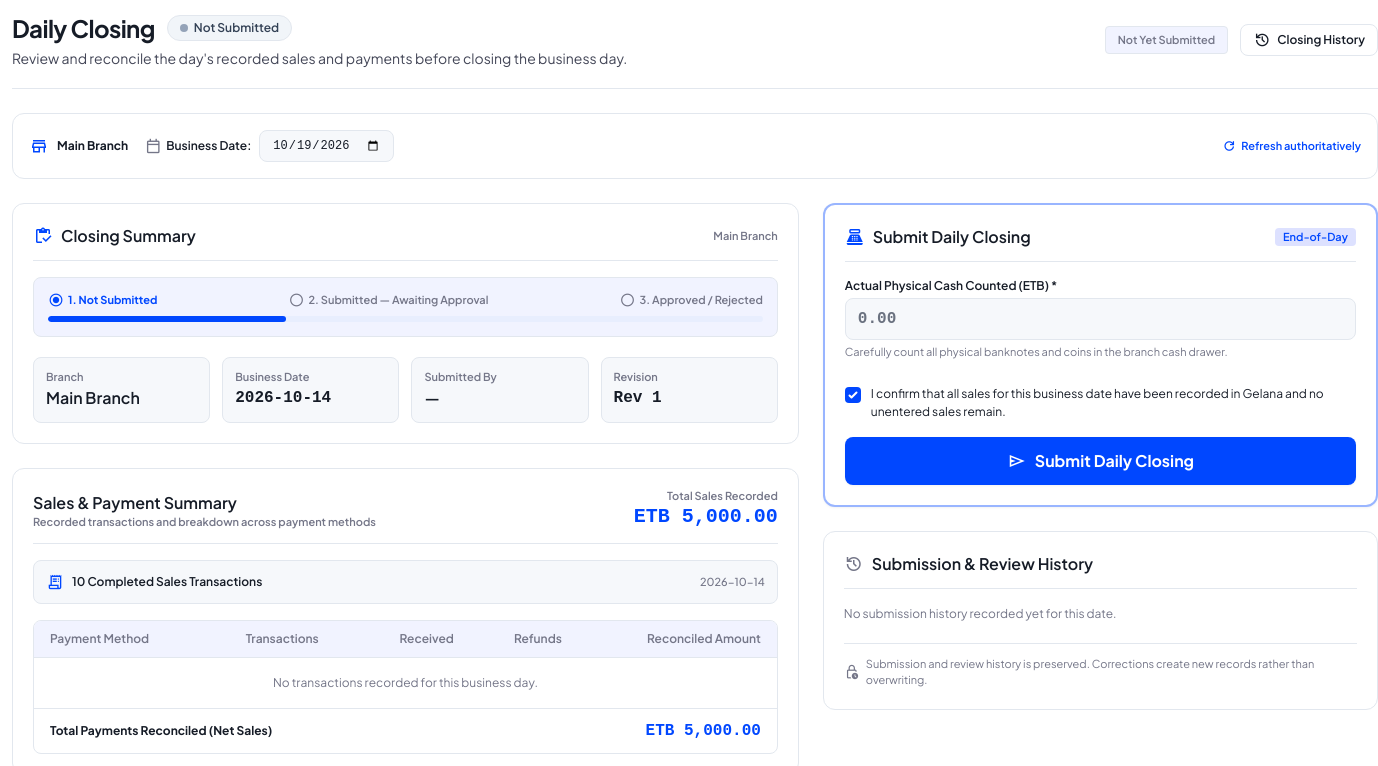
Daily Closing Frontend Components (Slices 9.1 – 9.4) › CurrentClosingPage › displays live variance calculation and requires explanation when counted cash differs from expected cash
The image size is (1378, 766).
// Enter 2950 (50 Birr shortage against 3000.00 expected)
Step 1. Type "2950" into the number field labelled "Actual Physical Cash Counted (ETB) *" → point(1100, 319), box [845,298,1356,340]
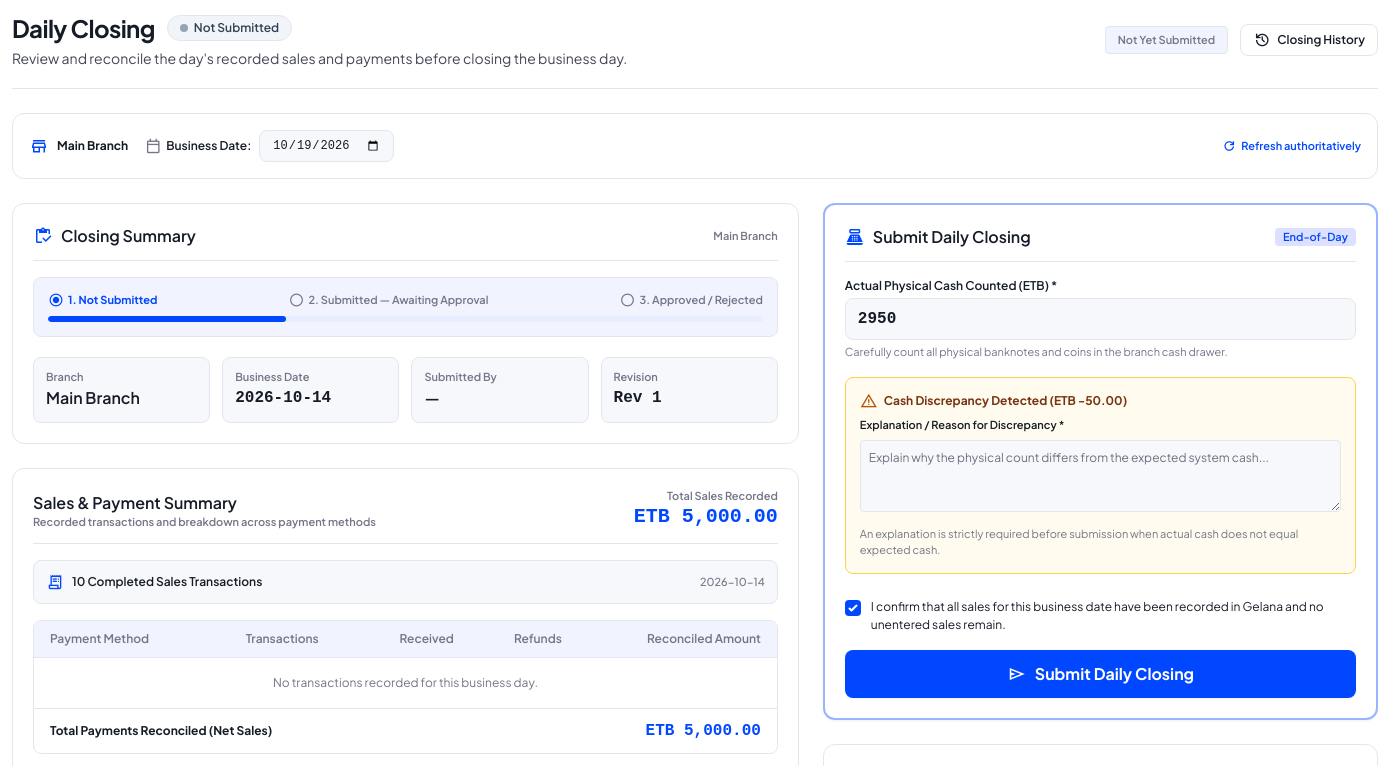
Expected: the text "Cash Discrepancy Detected (ETB -50.00)" is shown, [860,390,1127,412]
Expected: the text box labelled "Explanation / Reason for Discrepancy *" is shown, [860,440,1341,512]
